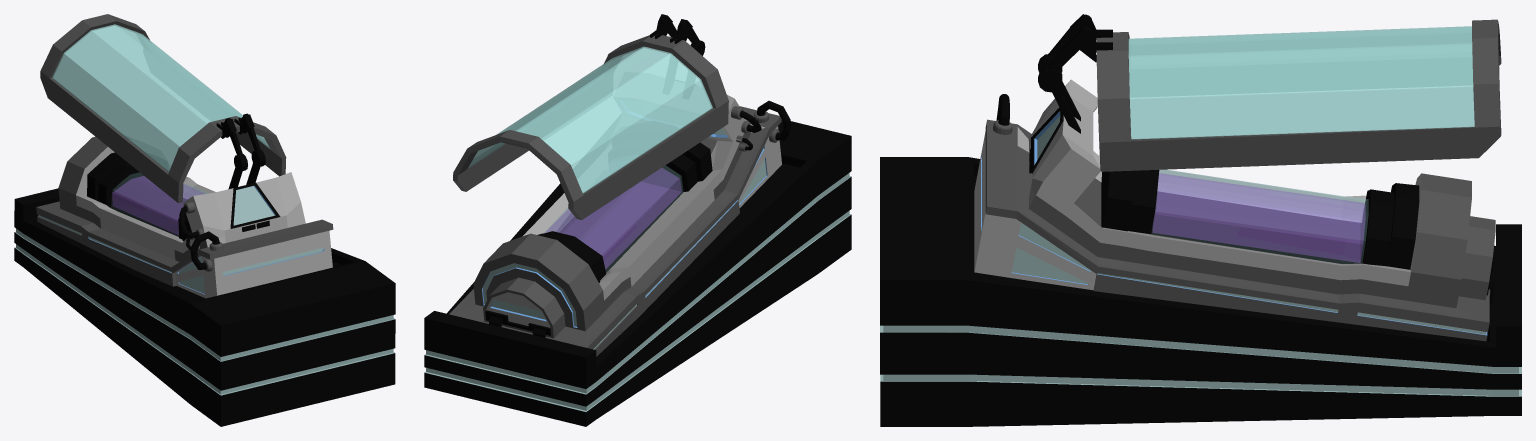
File: chamber.fbx
3 renders of one model, left to right at view 1: azimuth 30°, elevation 25°; view 2: azimuth 150°, elevation 25°; view 3: azimuth 270°, elevation 25°, orthographic. The views are drawn at different scales.
Parts seen in each view (by area): view 1: capsule, lid, liquid, link2, elbow; view 2: capsule, lid, liquid, link2; view 3: capsule, lid, liquid, link2, elbow, link1.
Boxes of the visible parts, bbox=[...] form: capsule: bbox=[14, 136, 395, 426]; lid: bbox=[40, 14, 286, 203]; liquid: bbox=[112, 176, 204, 235]; link2: bbox=[216, 113, 260, 156]; elbow: bbox=[234, 150, 265, 171]; capsule: bbox=[424, 95, 851, 426]; lid: bbox=[453, 35, 728, 219]; liquid: bbox=[545, 168, 681, 268]; link2: bbox=[650, 14, 699, 44]; capsule: bbox=[880, 79, 1521, 426]; lid: bbox=[1096, 19, 1501, 171]; liquid: bbox=[1153, 173, 1365, 262]; link2: bbox=[1047, 14, 1112, 71]; elbow: bbox=[1038, 54, 1062, 92]; link1: bbox=[1051, 81, 1080, 133].
Size of the model in its own units: 3.96 by 8.71 by 5.15.
